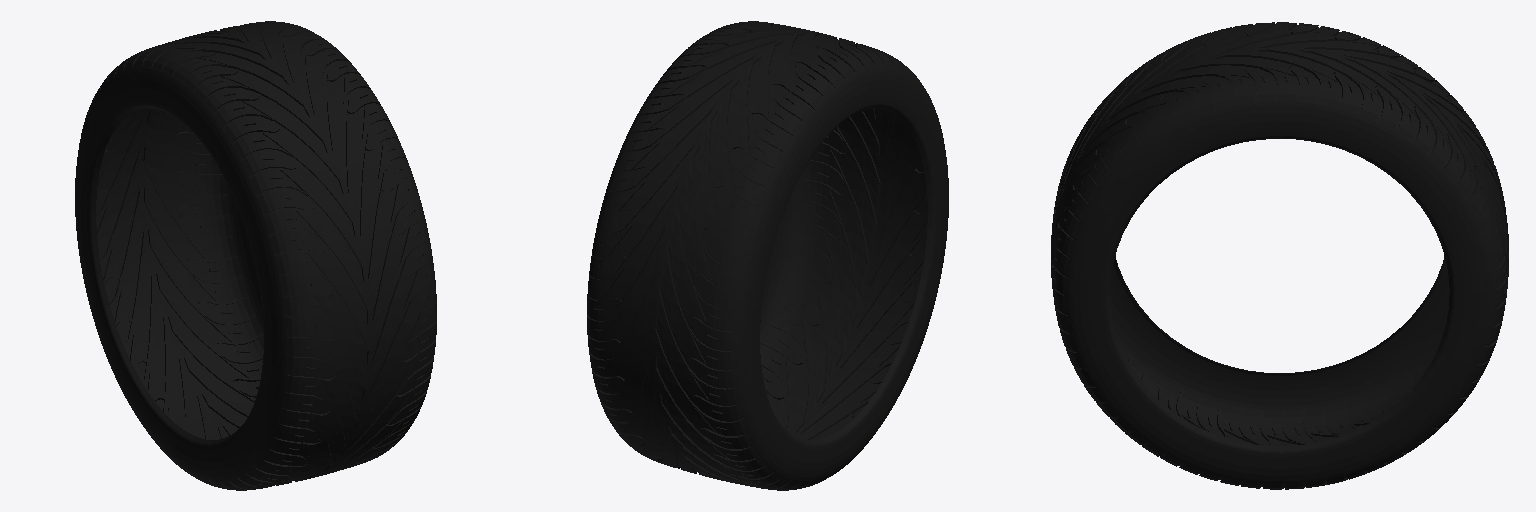
Rendered from llantaTI.obj.
3 views of the same model, side by side, from view 1: azimuth 30°, elevation 25°; view 2: azimuth 150°, elevation 25°; view 3: azimuth 270°, elevation 25° (orthographic).
Visible parts, largest first — view 1: pasted__HDM_01_03_tire_02; view 2: pasted__HDM_01_03_tire_02; view 3: pasted__HDM_01_03_tire_02.
Boxes of the visible parts, box(x1,y1,x2,y2) form: pasted__HDM_01_03_tire_02: box(75, 21, 436, 490); pasted__HDM_01_03_tire_02: box(587, 21, 948, 490); pasted__HDM_01_03_tire_02: box(1051, 22, 1508, 489).
Bounding box in the file's own units: 0.4401 × 1.1 × 1.1.